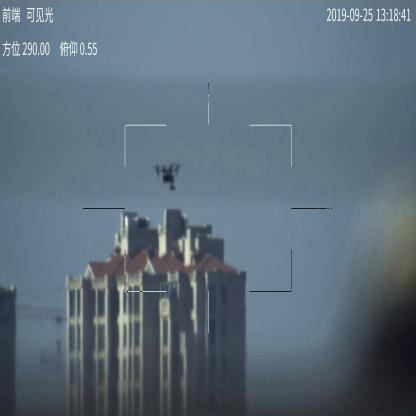uav: (153, 160, 182, 192)
